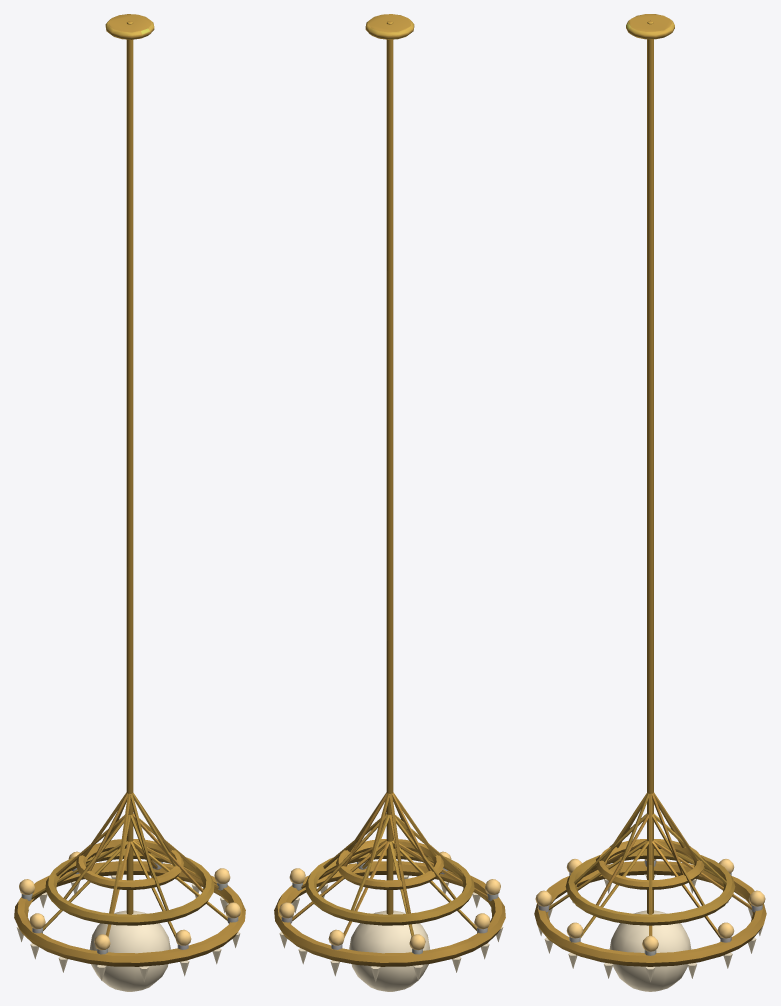
Rendered from SM_Cinema_Chandelier.fbx.
3 views of the same model, side by side, from view 1: azimuth 30°, elevation 25°; view 2: azimuth 150°, elevation 25°; view 3: azimuth 270°, elevation 25° (orthographic).
Parts seen in each view (by area): view 1: SM_Cinema_Chandelier; view 2: SM_Cinema_Chandelier; view 3: SM_Cinema_Chandelier.
Part boxes in pixels (<box>): SM_Cinema_Chandelier: <box>14,14,245,991</box>; SM_Cinema_Chandelier: <box>274,14,505,991</box>; SM_Cinema_Chandelier: <box>534,14,766,991</box>.
Size of the model in its own units: 170 by 780 by 170.
